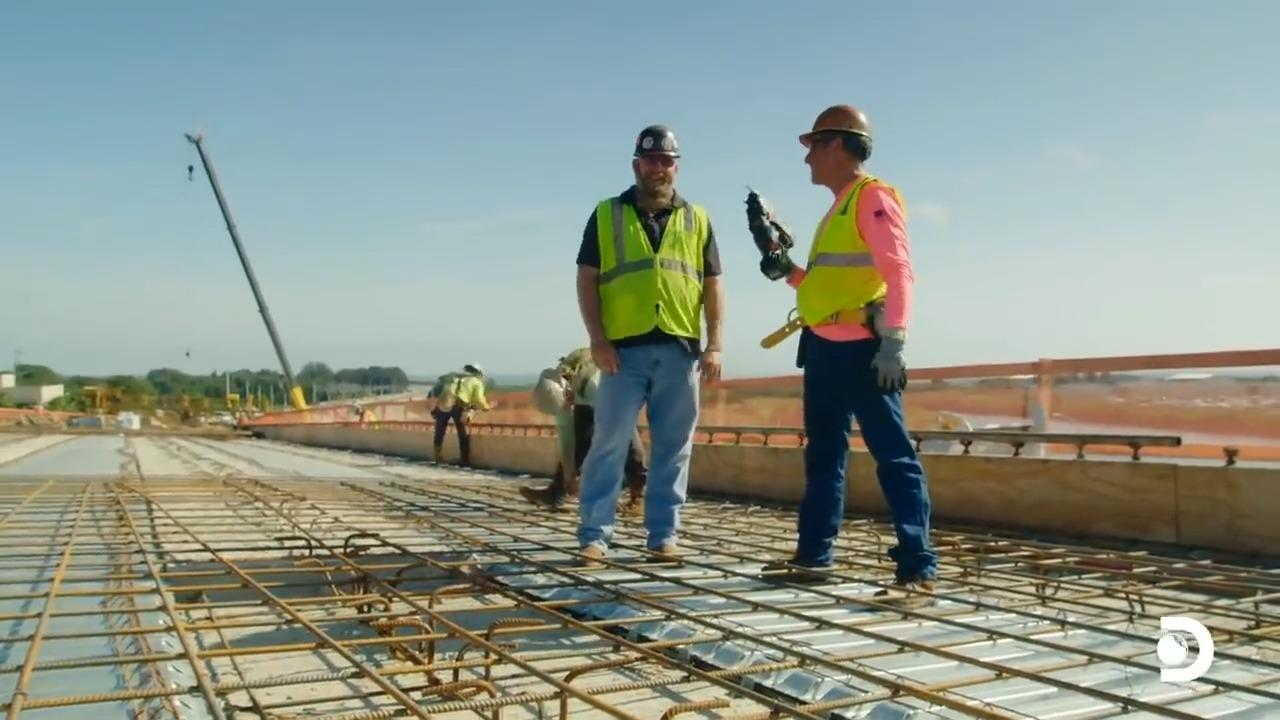Gloves: (869, 347, 914, 395)
Helmet: (798, 104, 873, 160), (633, 124, 680, 159), (534, 372, 567, 411), (463, 358, 485, 374)
Person: (743, 104, 938, 595), (573, 124, 724, 565), (536, 345, 651, 523), (425, 363, 496, 468)
Safety Boot: (762, 558, 827, 587), (876, 585, 937, 611), (571, 534, 609, 574), (523, 482, 567, 508), (644, 541, 681, 570), (619, 497, 646, 518)
Safety Vest: (589, 205, 708, 331), (806, 221, 888, 317)
bare-arms: (691, 351, 729, 392), (585, 340, 623, 380)
